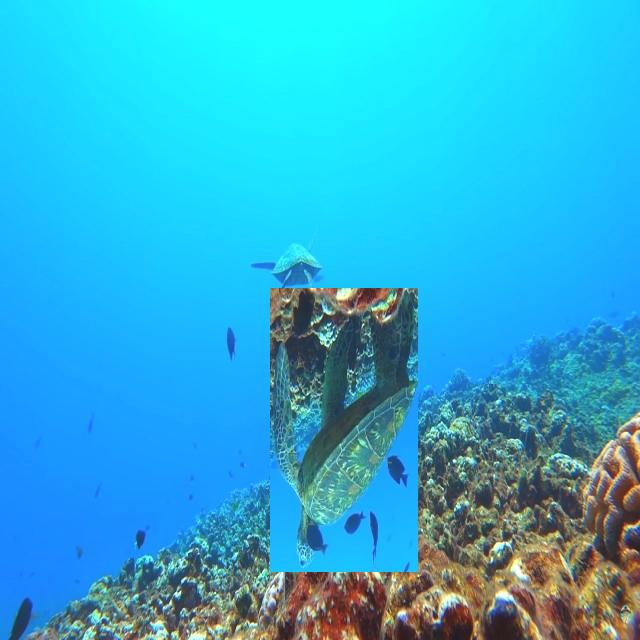Sea turtle: (270, 288, 418, 572), (250, 238, 326, 298)
